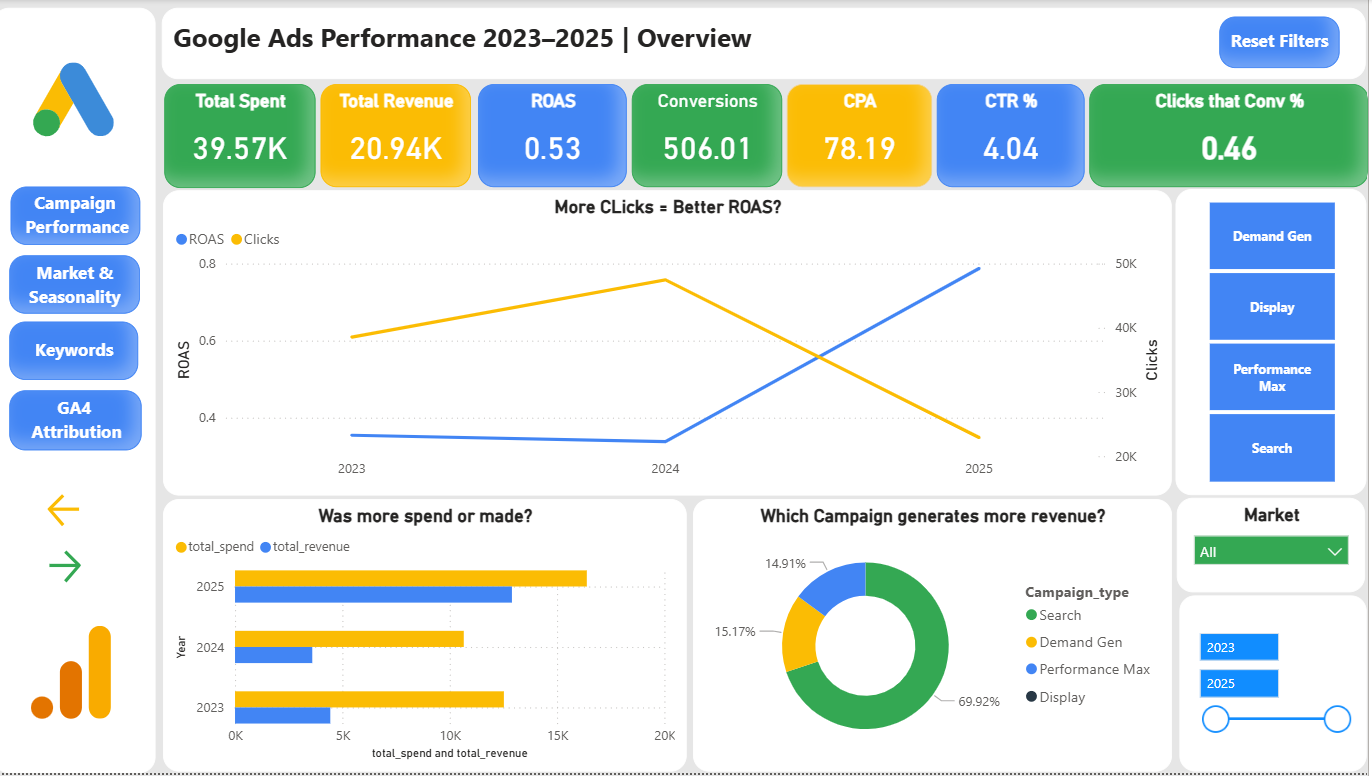

The dashboard page shown, as its layout file describes it:
{"tool":"powerbi","page":{"name":"Overview","canvas":[1280,720],"ordinal":0},"visuals":[{"type":"textbox","box":[157,8.1,1119.8,66.3],"z":0},{"type":"card","title":"Total Spent","fields":{"Values":["_Measures.total_spend"]},"box":[159.3,79.1,140.7,96.5],"z":1000},{"type":"card","title":"Total Revenue","fields":{"Values":["_Measures.total_revenue"]},"box":[304.3,79.2,140,96.3],"z":2000},{"type":"card","title":"ROAS","fields":{"Values":["_Measures.roas"]},"box":[450.6,79.2,138.8,96.3],"z":3000},{"type":"card","title":"Conversions","fields":{"Values":["_Measures.total_conversions"]},"box":[594.4,79.2,140,96.3],"z":4000},{"type":"card","title":"CPA","fields":{"Values":["_Measures.cpa"]},"box":[738.2,79.2,135,96.3],"z":5000},{"type":"lineChart","title":"More CLicks = Better ROAS?","fields":{"Category":["campaigns_clean.Year"],"Y":["_Measures.roas"],"Y2":["_Measures.total_clicks"]},"box":[157.8,177.8,938.9,266.7],"z":6000},{"type":"clusteredBarChart","title":"Was more spend or made?","fields":{"Category":["campaigns_clean.Year"],"Y":["_Measures.total_spend","_Measures.total_revenue"]},"box":[157.8,446.7,487.8,272.2],"z":7000},{"type":"donutChart","title":"Which Campaign generates more revenue?","fields":{"Category":["campaigns_clean.Campaign_type"],"Y":["_Measures.total_spend"]},"box":[651.1,447.8,445.6,271.1],"z":8000},{"type":"slicer","title":"Year","fields":{"Values":["campaigns_clean.Year"]},"box":[1103.5,554.7,174.4,164],"z":9000},{"type":"textbox","box":[0,8.1,151.2,711.6],"z":10000},{"type":"image","box":[37.2,0,75.6,187.2],"z":11000},{"type":"slicer","fields":{"Values":["campaigns_clean.Campaign_type"]},"box":[1100,176.7,177.9,284.9],"z":12000},{"type":"slicer","title":"Market","fields":{"Values":["campaigns_clean.market"]},"box":[1101.2,464,175.6,88.4],"z":13000},{"type":"card","title":"CTR %","fields":{"Values":["_Measures.ctr_pct"]},"box":[878.2,79.2,137.5,96.3],"z":14000},{"type":"card","title":"Clicks that Conv %","fields":{"Values":["_Measures.click_to_conv_pct"]},"box":[1019.5,79.2,260.1,96.3],"z":15000},{"type":"textbox","box":[14.9,238.2,121.8,54.1],"z":16000},{"type":"textbox","box":[16.3,174.4,120.9,54.7],"z":17000},{"type":"textbox","box":[17.4,173.3,122.1,79.1],"z":18000},{"type":"textbox","box":[18.9,238.2,115,67.7],"z":19000},{"type":"textbox","box":[15.1,300,119.8,54.7],"z":20000},{"type":"textbox","box":[15.1,364,123.3,55.8],"z":21000},{"type":"textbox","box":[23.3,309.3,104.7,41.9],"z":22000},{"type":"textbox","box":[4.7,364,146.5,55.8],"z":23000},{"type":"textbox","box":[1140.7,16.3,111.6,47.7],"z":24000},{"type":"textbox","box":[1146.5,22.1,112.8,43],"z":25000},{"type":"image","box":[34.9,566.3,75.6,119.8],"z":26000},{"type":"actionButton","box":[46.5,455.8,100,39.5],"z":27000},{"type":"actionButton","box":[46.5,508.1,100,39.5],"z":28000}]}

Visuals, with their boxes on the page's 1280x720 design canvas (x1, y1, x2, y2). These are canvas units, not pixel positions in the 1372x776 screenshot, which may show the page scaled, cropped or inside an application window:
textbox: x1=157, y1=8, x2=1277, y2=74
"Total Spent" card: x1=159, y1=79, x2=300, y2=176
"Total Revenue" card: x1=304, y1=79, x2=444, y2=176
"ROAS" card: x1=451, y1=79, x2=589, y2=176
"Conversions" card: x1=594, y1=79, x2=734, y2=176
"CPA" card: x1=738, y1=79, x2=873, y2=176
"More CLicks = Better ROAS?" lineChart: x1=158, y1=178, x2=1097, y2=444
"Was more spend or made?" clusteredBarChart: x1=158, y1=447, x2=646, y2=719
"Which Campaign generates more revenue?" donutChart: x1=651, y1=448, x2=1097, y2=719
"Year" slicer: x1=1104, y1=555, x2=1278, y2=719
textbox: x1=0, y1=8, x2=151, y2=720
image: x1=37, y1=0, x2=113, y2=187
slicer - campaigns_clean.Campaign_type: x1=1100, y1=177, x2=1278, y2=462
"Market" slicer: x1=1101, y1=464, x2=1277, y2=552
"CTR %" card: x1=878, y1=79, x2=1016, y2=176
"Clicks that Conv %" card: x1=1020, y1=79, x2=1280, y2=176
textbox: x1=15, y1=238, x2=137, y2=292
textbox: x1=16, y1=174, x2=137, y2=229
textbox: x1=17, y1=173, x2=140, y2=252
textbox: x1=19, y1=238, x2=134, y2=306
textbox: x1=15, y1=300, x2=135, y2=355
textbox: x1=15, y1=364, x2=138, y2=420
textbox: x1=23, y1=309, x2=128, y2=351
textbox: x1=5, y1=364, x2=151, y2=420
textbox: x1=1141, y1=16, x2=1252, y2=64
textbox: x1=1146, y1=22, x2=1259, y2=65
image: x1=35, y1=566, x2=110, y2=686
actionButton: x1=46, y1=456, x2=146, y2=495
actionButton: x1=46, y1=508, x2=146, y2=548
